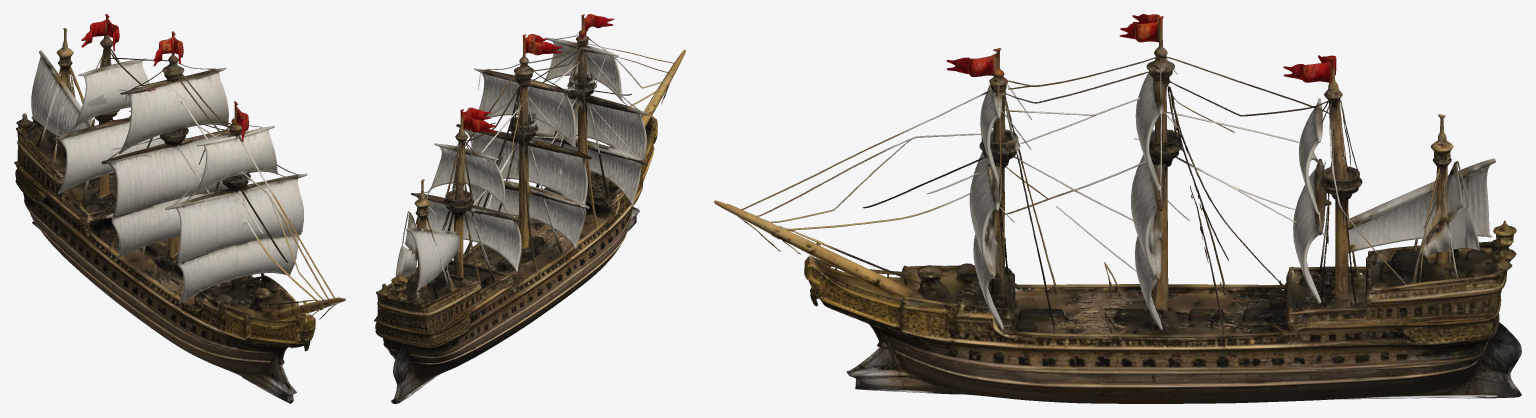
File: heavy_galleon.glb
3 renders of one model, left to right at view 1: azimuth 30°, elevation 25°; view 2: azimuth 150°, elevation 25°; view 3: azimuth 270°, elevation 25°, orthographic. The views are drawn at different scales.
Parts seen in each view (by area): view 1: node_0; view 2: node_0; view 3: node_0.
Part boxes in pixels (box(x1,y1,x2,y2)): node_0: box(14, 14, 345, 403); node_0: box(374, 14, 685, 403); node_0: box(714, 14, 1521, 403).
Size of the model in its own units: 0.2848 by 0.5559 by 1.07.
Materials: 1 (1 with a texture image).
